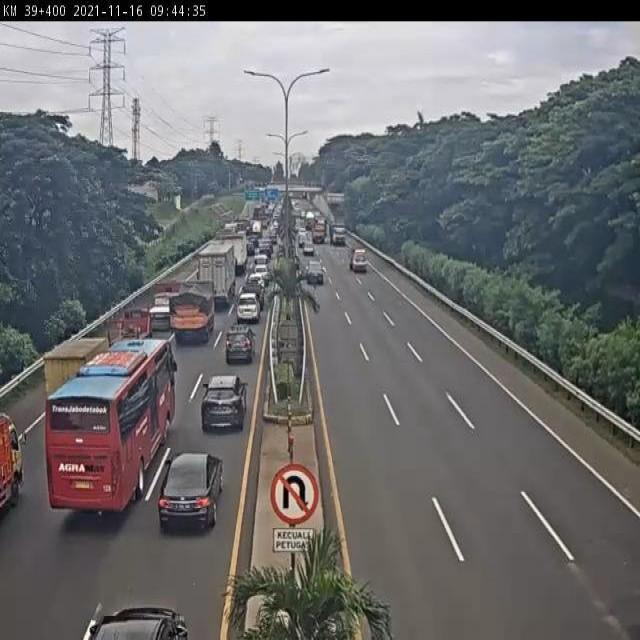big bus: (46, 338, 177, 514)
car: (159, 452, 225, 529), (200, 373, 244, 431), (224, 324, 253, 367), (236, 295, 258, 325), (242, 284, 265, 307), (247, 270, 266, 290)
truck-l-: (195, 239, 237, 304)
truck-m-: (41, 338, 112, 410), (169, 284, 215, 340), (147, 283, 182, 332), (110, 305, 150, 347), (222, 236, 248, 272)
